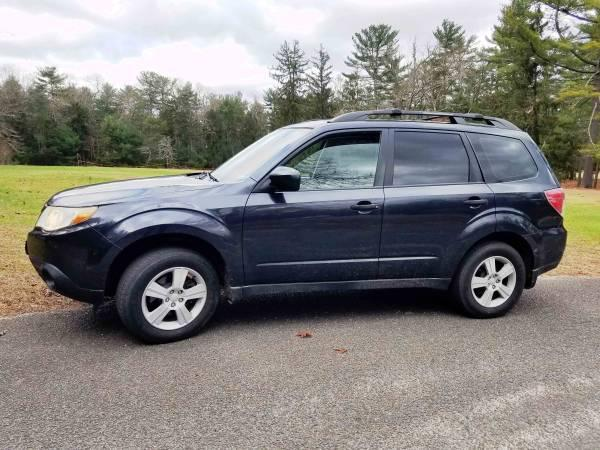Front_Bumper: (24, 223, 121, 306)
Front_Fender: (90, 183, 255, 305)
Front_Left_Door: (244, 188, 385, 296)
Front_Left_Window: (252, 126, 387, 194)
Front_Windshield: (206, 128, 306, 186)
Hood: (49, 173, 220, 208)
Left_Headlight: (32, 205, 98, 231)
Left_Taillight: (545, 188, 566, 218)
Rear_Bumper: (525, 222, 568, 280)
Rear_Fender: (464, 130, 563, 233)
Rear_Left_Door: (378, 182, 496, 290)
Rear_Left_Window: (381, 124, 483, 185)
Roof: (250, 109, 526, 180)
Wheel: (115, 249, 219, 343), (460, 237, 533, 311)
